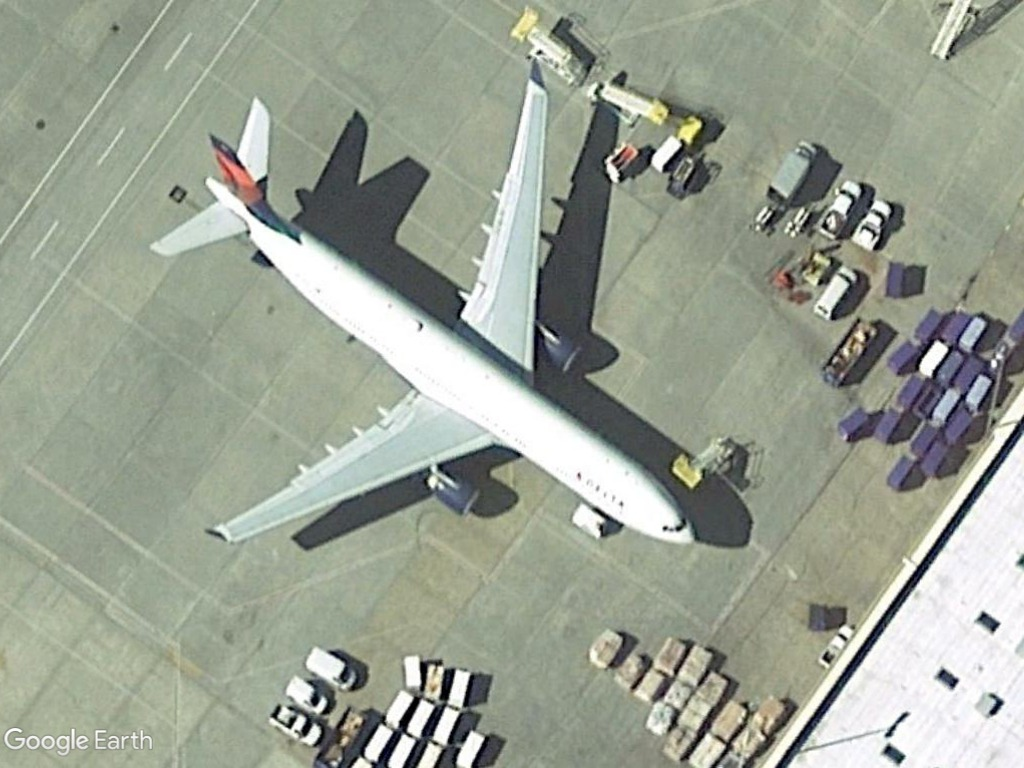airliner: (144, 79, 702, 552)
truck: (766, 137, 821, 205)
van: (809, 261, 863, 325), (301, 645, 361, 693), (286, 672, 333, 717)
